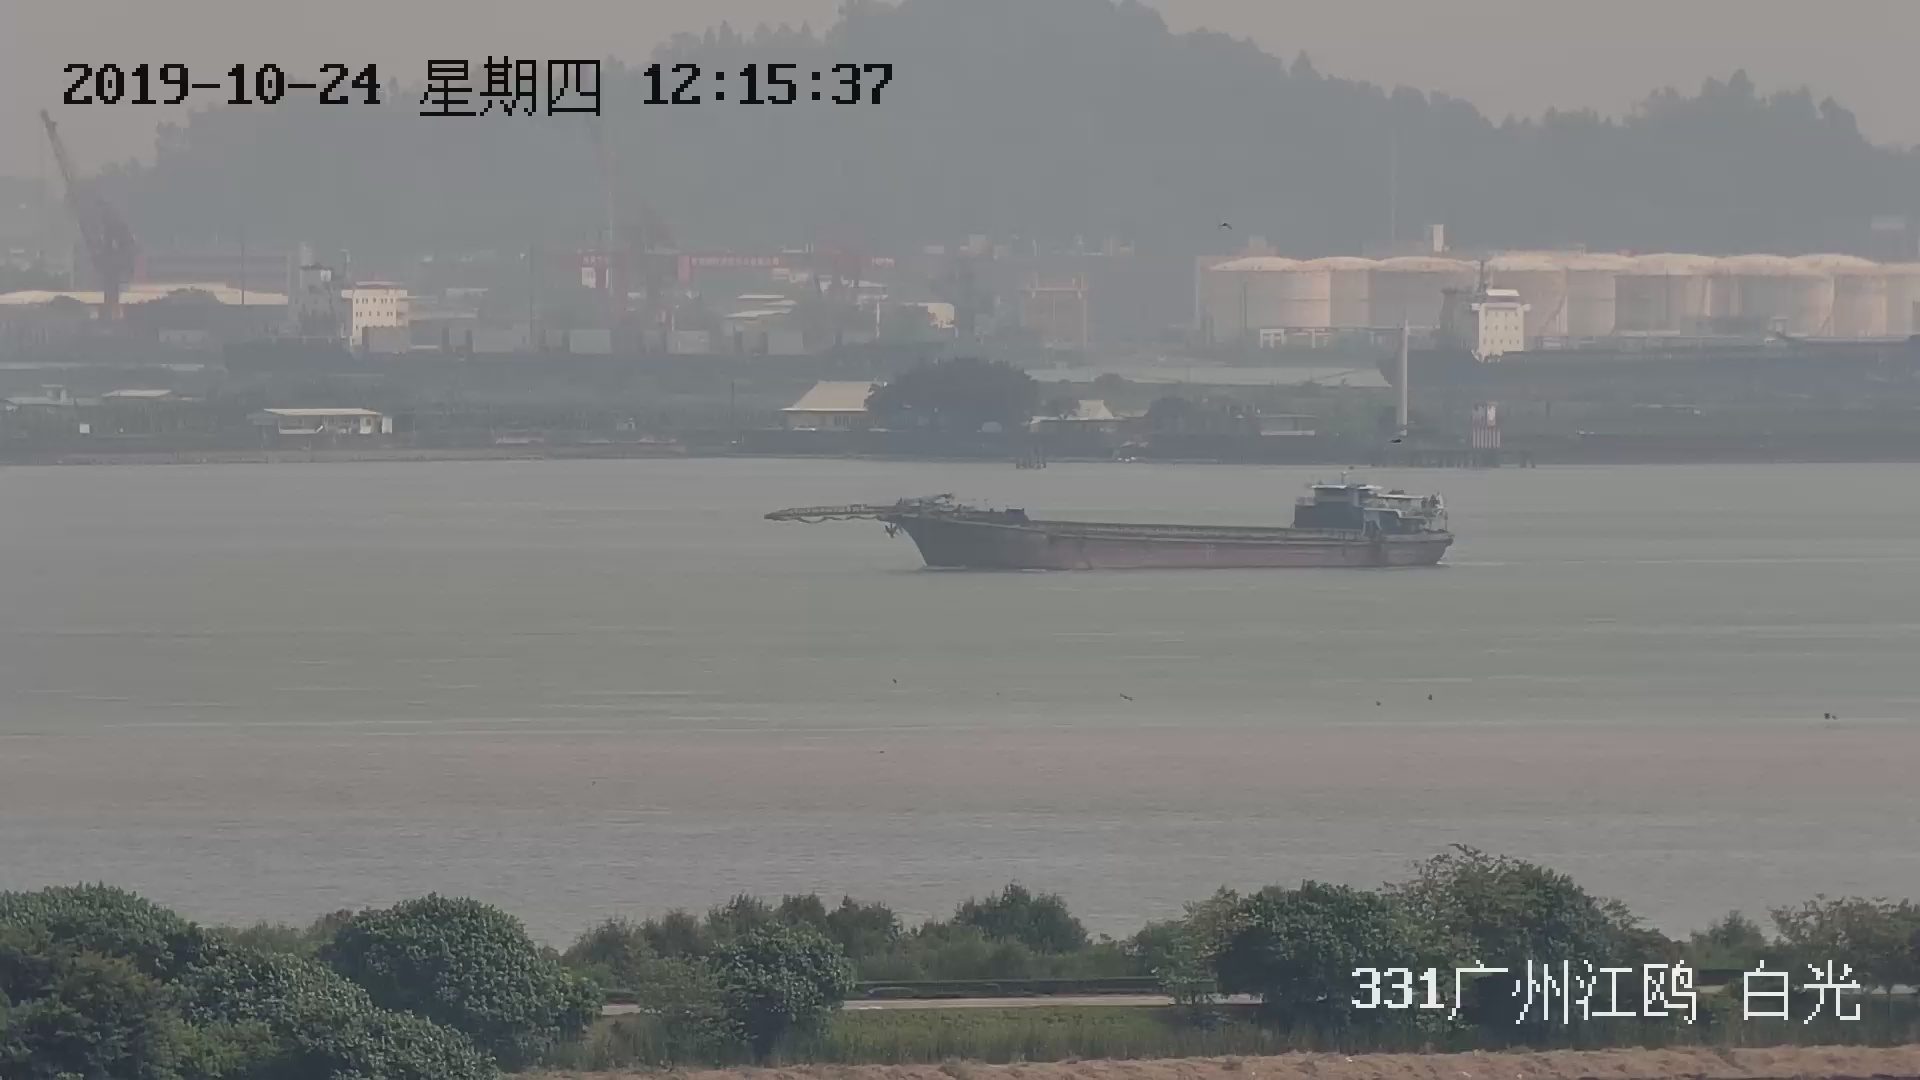ship: (783, 487, 1455, 566)
